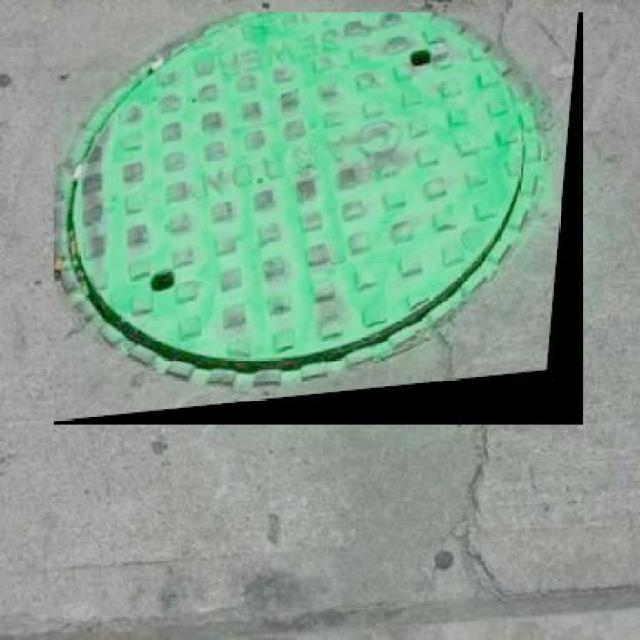Manhole: (54, 12, 583, 425)
